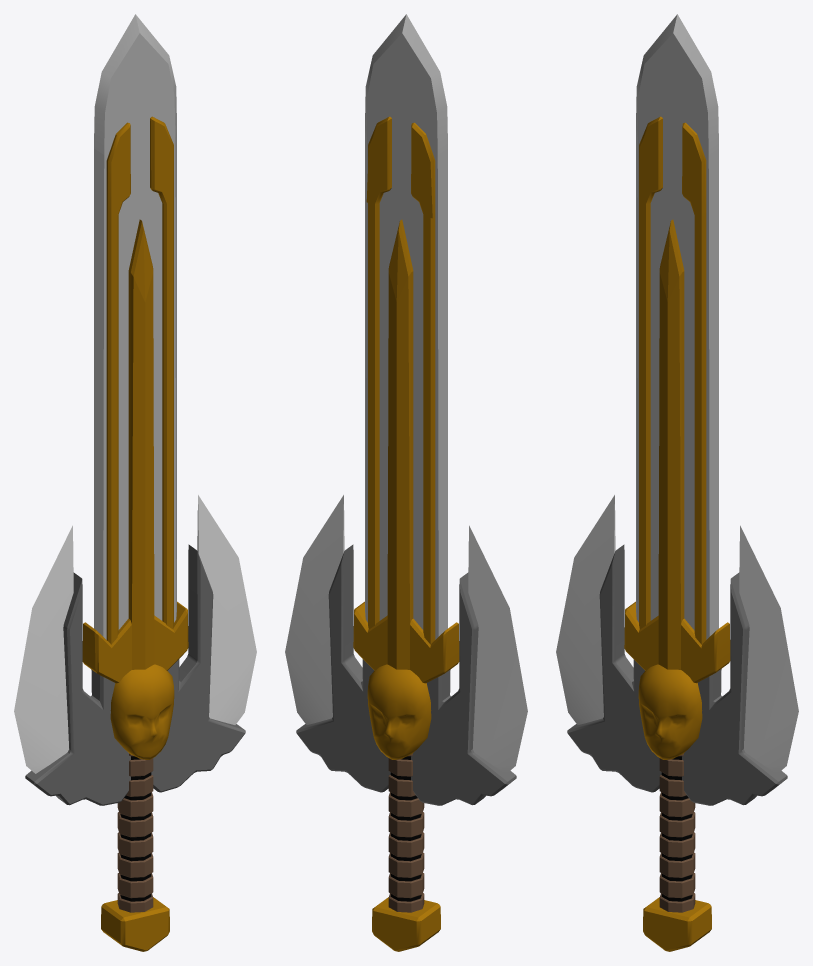
File: Sword_3.fbx
The picture shows the model from 3 angles, left to right: view 1: azimuth 30°, elevation 25°; view 2: azimuth 150°, elevation 25°; view 3: azimuth 330°, elevation 25°; orthographic projection.
Visible parts, largest first — view 1: pCube39, pCube41, pCube37, pCube44, pCube42, pCube45, pCube38, pCylinder12, pCube36, pCube35; view 2: pCube39, pCube41, pCube37, pCube44, pCube42, pCube45, pCube38, pCylinder12, pCube43, pCube35; view 3: pCube39, pCube41, pCube37, pCube42, pCube44, pCube38, pCube45, pCylinder12, pCube36, pCube35.
Boxes of the visible parts, bbox=[...] form: pCube39: bbox=[94, 14, 176, 639]; pCube41: bbox=[25, 544, 245, 805]; pCube37: bbox=[82, 219, 188, 683]; pCube44: bbox=[14, 525, 73, 773]; pCube42: bbox=[197, 495, 256, 724]; pCube45: bbox=[106, 122, 130, 644]; pCube38: bbox=[150, 116, 173, 629]; pCylinder12: bbox=[117, 753, 153, 912]; pCube36: bbox=[110, 664, 174, 759]; pCube35: bbox=[101, 897, 169, 951]; pCube39: bbox=[365, 14, 447, 639]; pCube41: bbox=[296, 544, 516, 805]; pCube37: bbox=[353, 219, 459, 683]; pCube44: bbox=[468, 525, 527, 773]; pCube42: bbox=[285, 495, 344, 724]; pCube45: bbox=[411, 122, 435, 644]; pCube38: bbox=[366, 116, 391, 629]; pCylinder12: bbox=[388, 753, 424, 912]; pCube43: bbox=[367, 664, 431, 759]; pCube35: bbox=[372, 897, 440, 951]; pCube39: bbox=[636, 14, 718, 639]; pCube41: bbox=[567, 544, 787, 805]; pCube37: bbox=[624, 219, 730, 683]; pCube42: bbox=[739, 525, 798, 773]; pCube44: bbox=[556, 495, 615, 724]; pCube38: bbox=[682, 122, 706, 644]; pCube45: bbox=[639, 116, 662, 629]; pCylinder12: bbox=[659, 753, 695, 912]; pCube36: bbox=[638, 664, 702, 759]; pCube35: bbox=[643, 897, 711, 951].
Size of the model in its own units: 1.72 by 6.31 by 0.4849.
